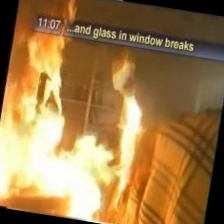fire: (0, 0, 179, 224)
